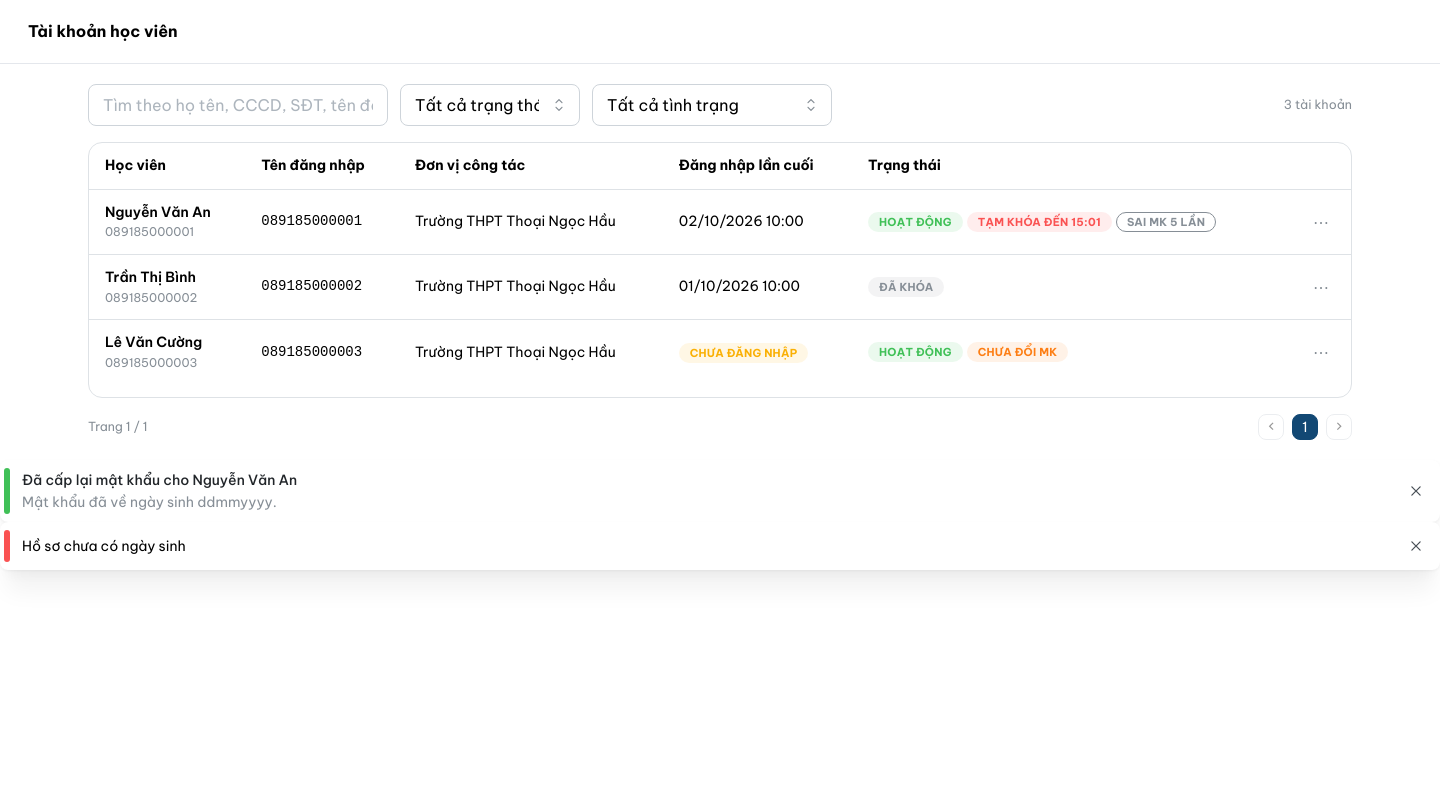
it: Admin — Tài khoản học viên › gỡ tạm khóa chỉ hiện khi đang tạm khóa và gọi đúng endpoint
The width and height of the screenshot is (1440, 810).
Click the button "⋯" in the row of "Lê Văn Cường". click: (1321, 352)
box: [1307,338,1335,366]
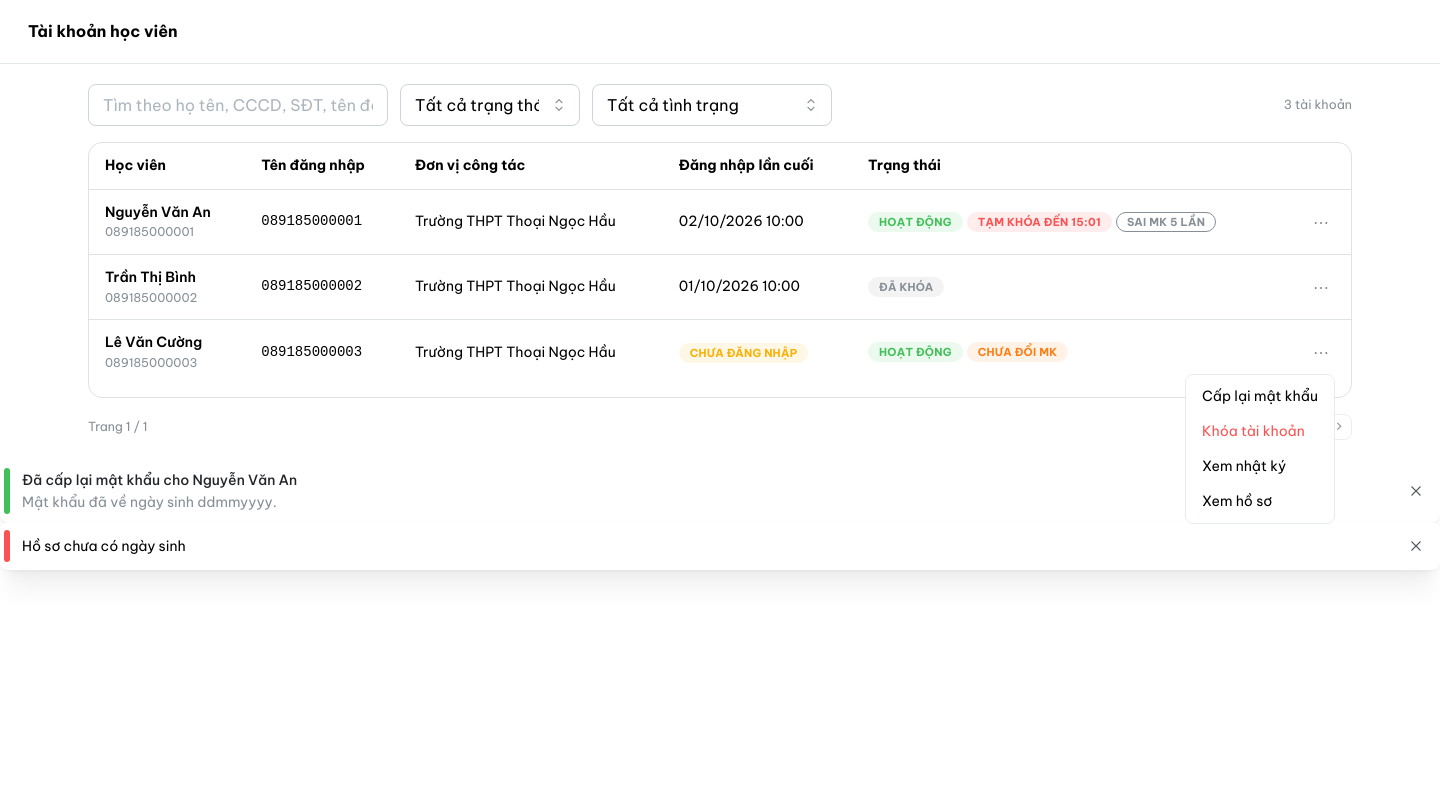
Check: the menu item "Gỡ tạm khóa" is not shown
Check: the menu item "Cấp lại mật khẩu" is shown, box [1190,379,1330,414]
Press Escape
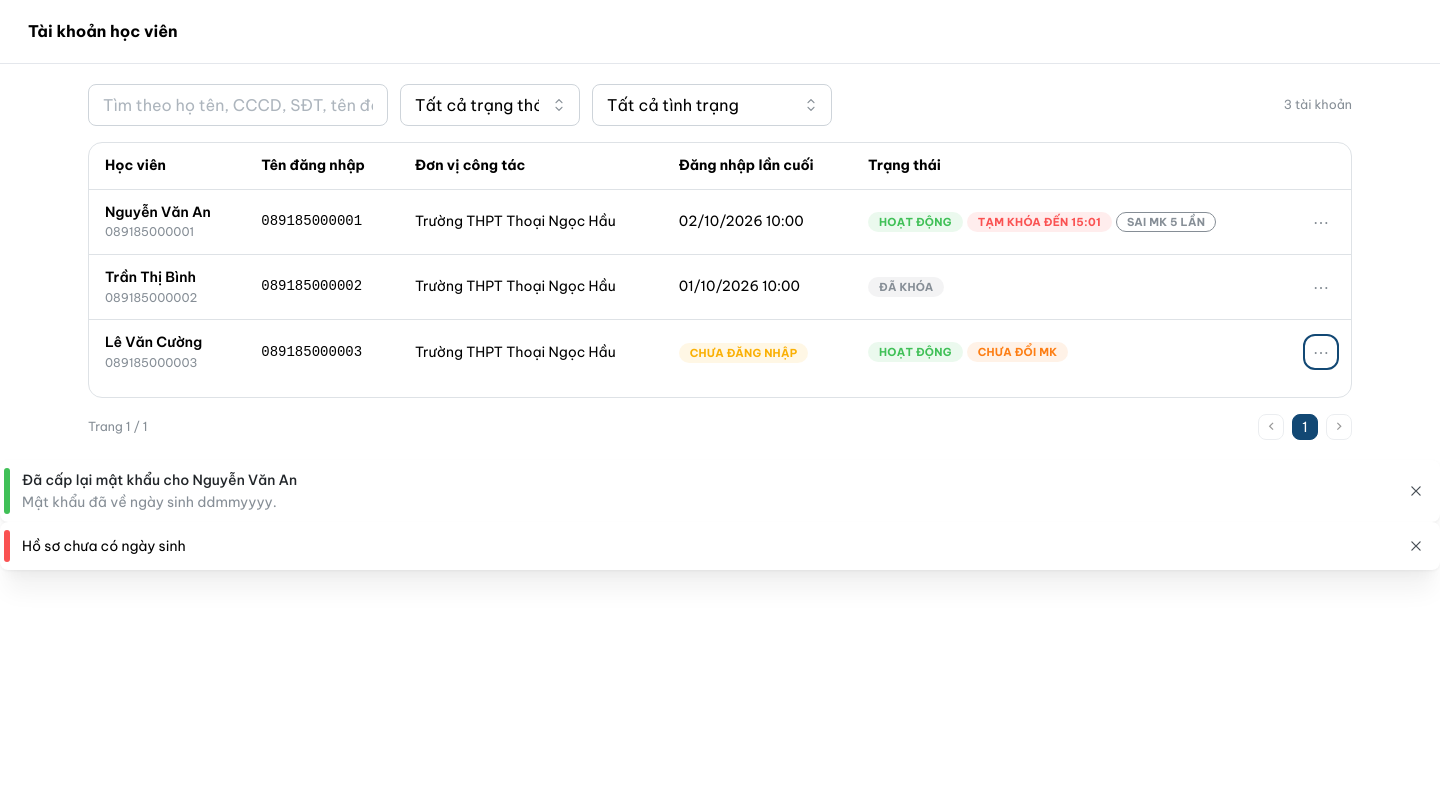
Click the button "⋯" in the row of "02/10/2026 10:00". click: (1321, 222)
box: [1307,208,1335,236]
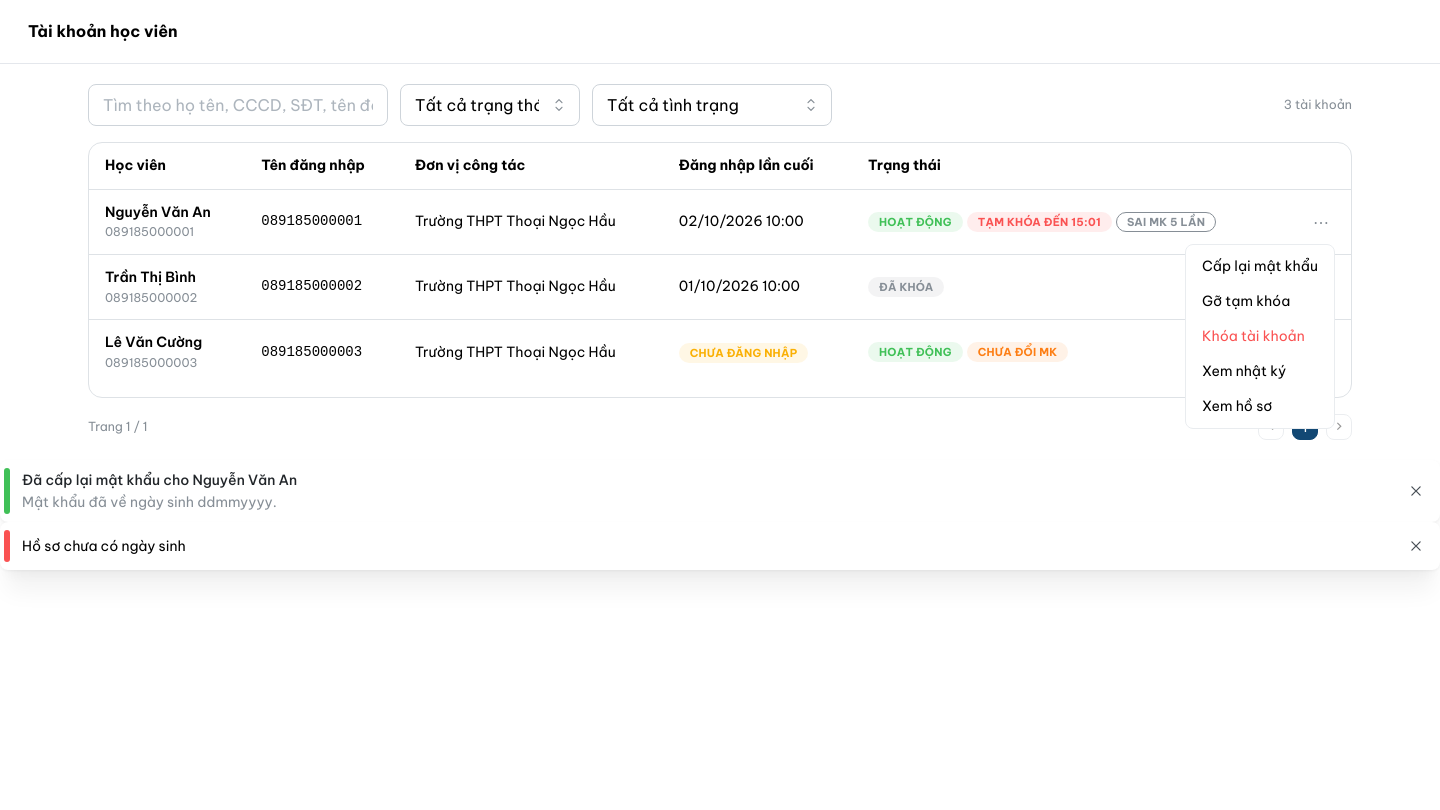
Click the menu item "Gỡ tạm khóa". click: (1260, 301)
box: [1190,284,1330,319]
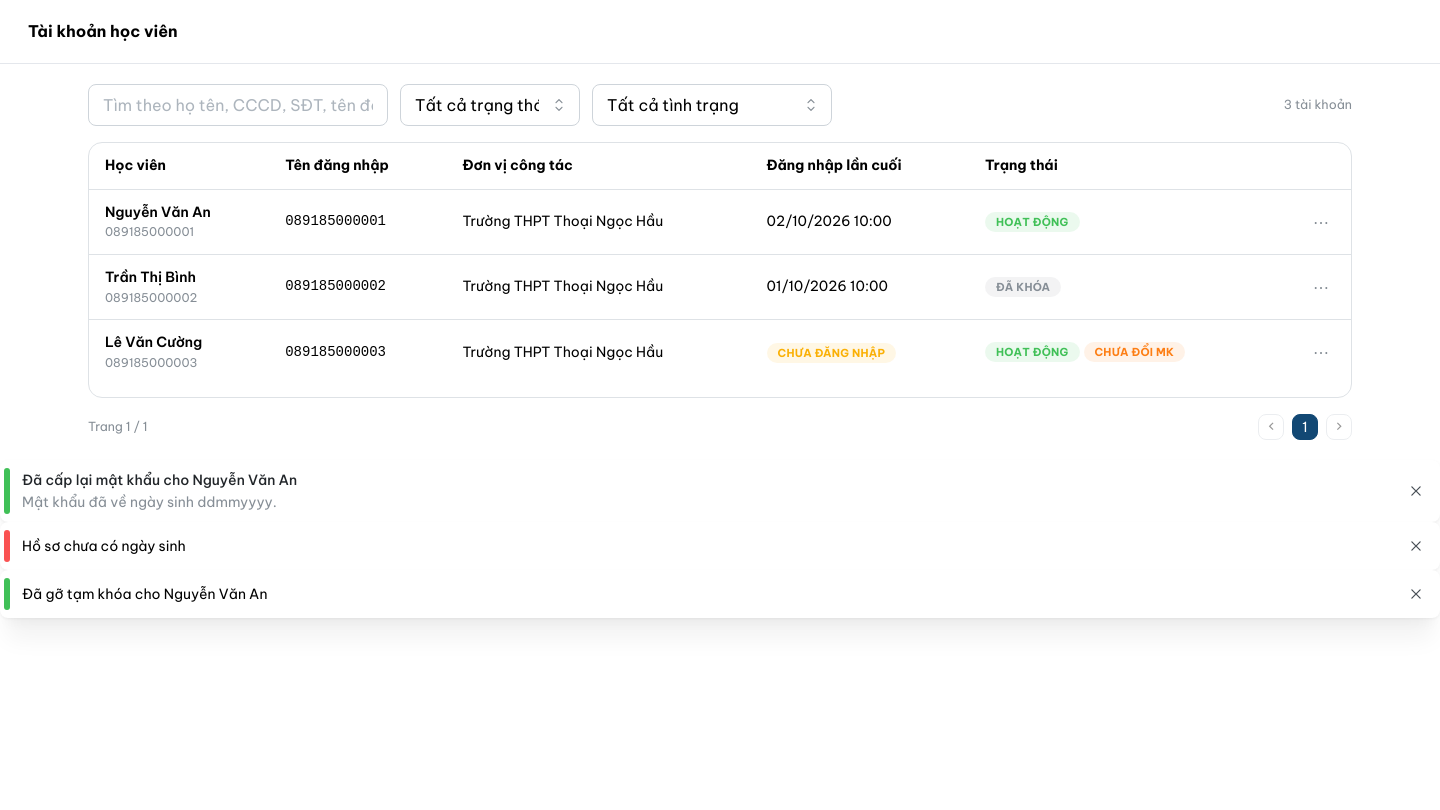
Check: the text "Đã gỡ tạm khóa cho Nguyễn Văn An" is shown, box [22,585,268,603]
Check: the text "Tạm khóa đến" is gone
